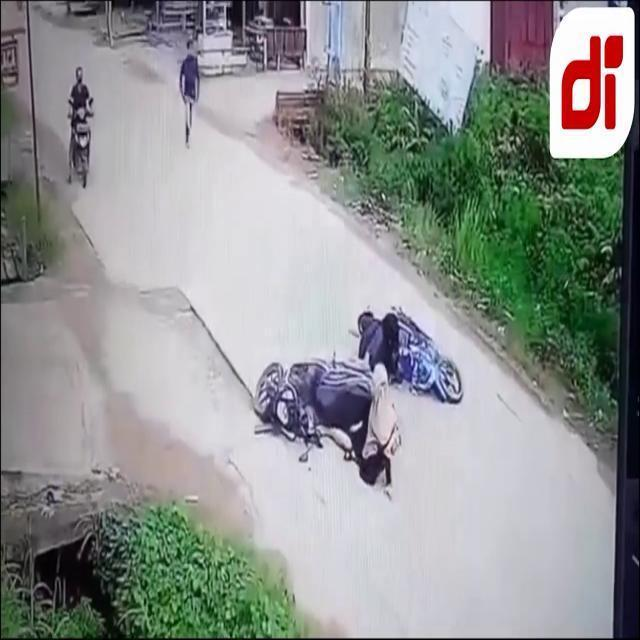accident: (252, 306, 466, 498), (252, 363, 408, 499), (350, 311, 462, 407)
